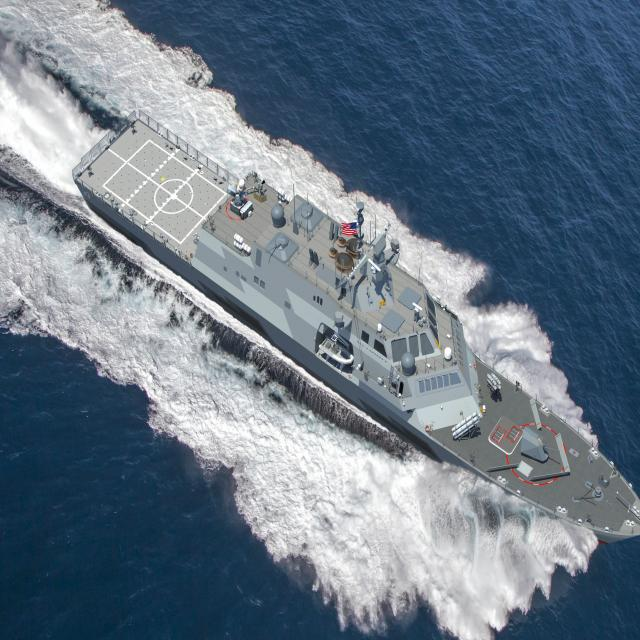Fragata: (1, 103, 453, 564)
